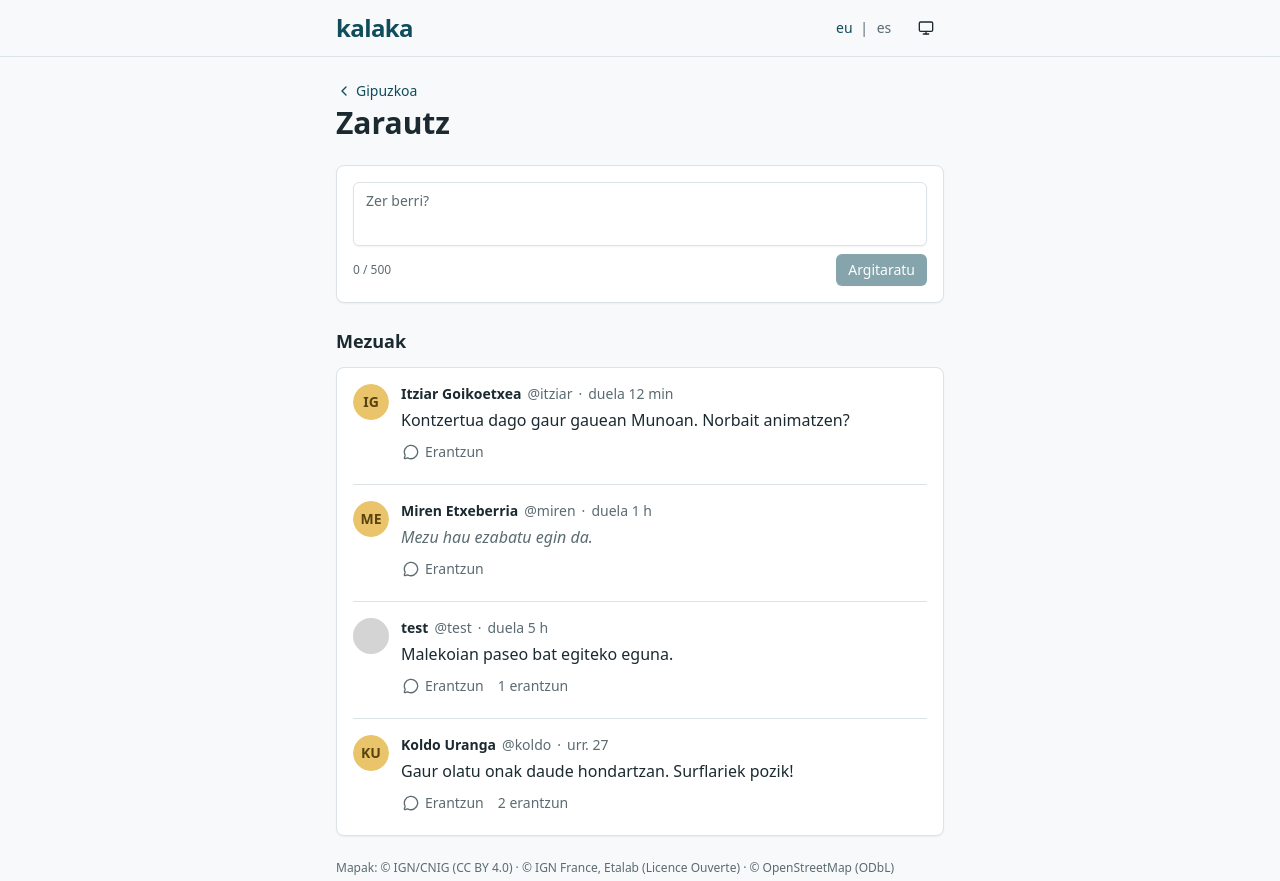
Test: room › publishes a post and puts it at the top of the list
Type "  Kaixo Zarautz!  " into the text box named "Idatzi mezu bat". click: (640, 214)
box: [353, 182, 927, 246]
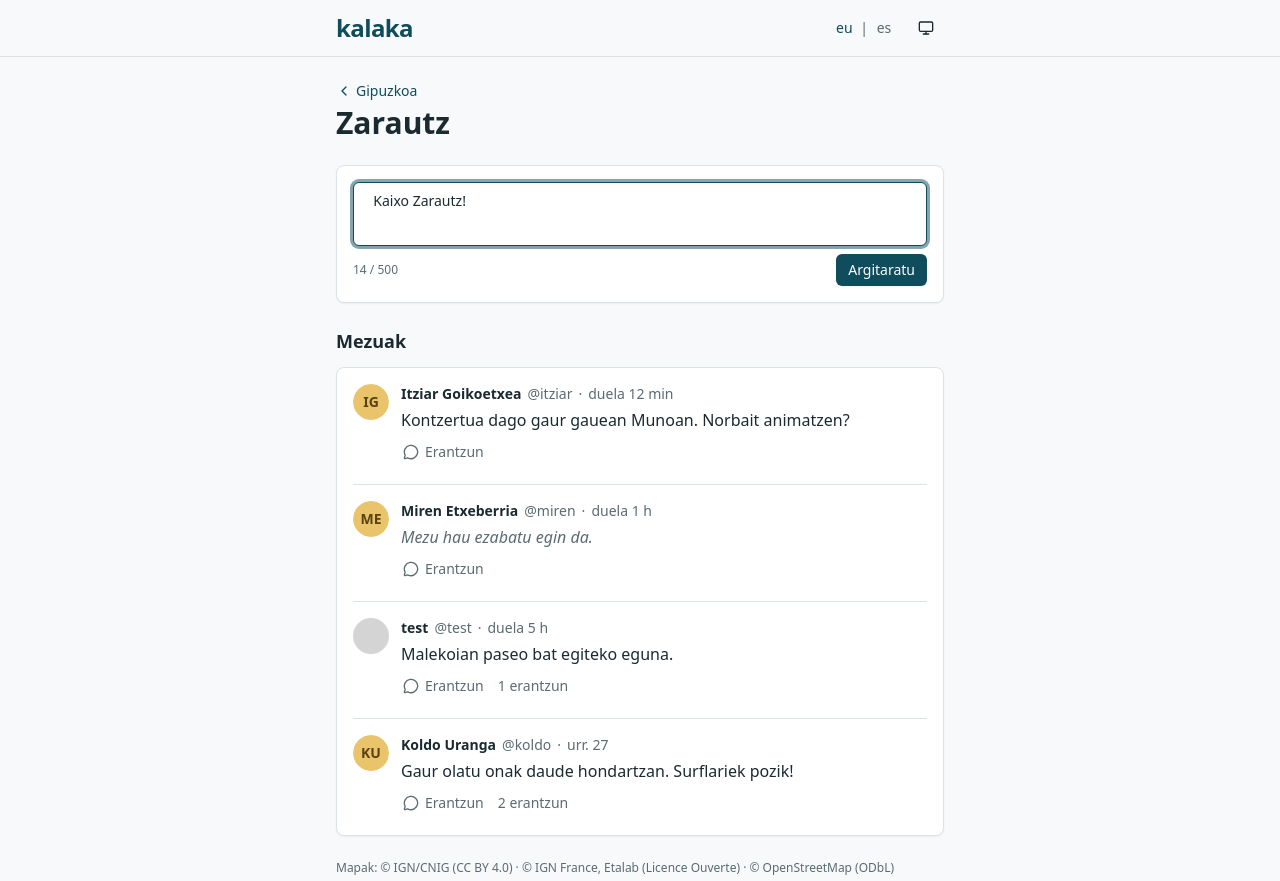
Now the text "14 / 500" is shown, box [353, 262, 398, 278]
Click the button "Argitaratu". click: click(882, 270)
box: [836, 254, 927, 286]
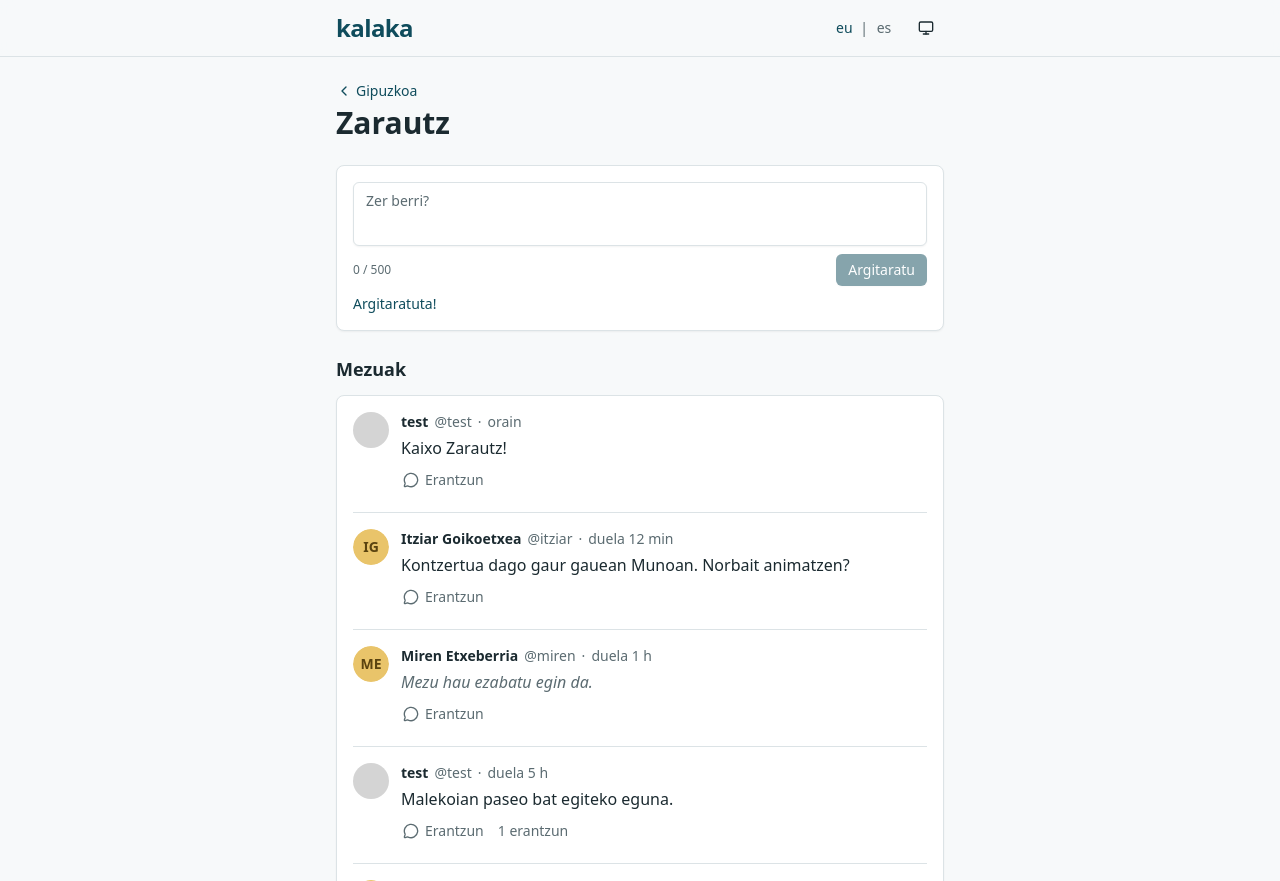
Now the text "Argitaratuta!" is shown, box [353, 294, 436, 313]
Now the element showing "test @test · orain Kaixo Zarautz! Erantzun" is shown, box [353, 412, 522, 489]
Now the text box named "Idatzi mezu bat" is empty, box [353, 182, 927, 246]
